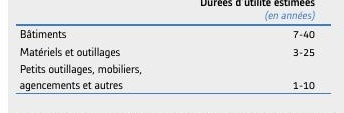table: (0, 0, 344, 113)
